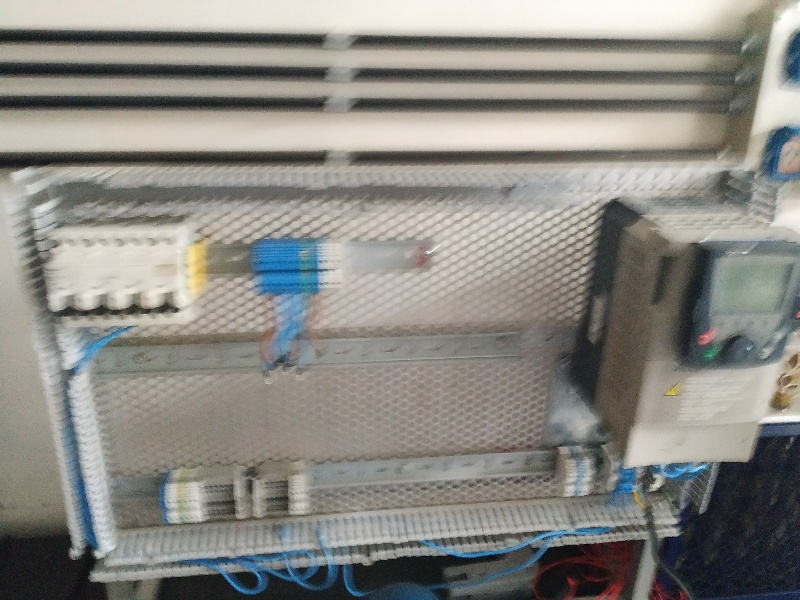Tablero 0: (20, 178, 795, 559)
